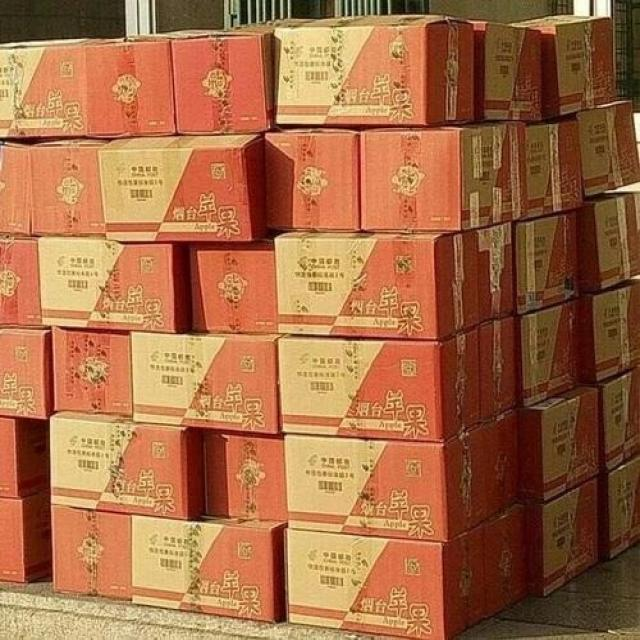box: (274, 13, 475, 131), (284, 525, 486, 640), (284, 426, 486, 540), (274, 228, 479, 340), (278, 330, 480, 442), (97, 133, 271, 241), (360, 121, 526, 233), (50, 410, 206, 519), (132, 515, 288, 622), (132, 331, 284, 434), (40, 237, 191, 333), (173, 19, 297, 135), (87, 30, 219, 137), (508, 13, 616, 119), (265, 128, 360, 232), (0, 38, 99, 137), (518, 387, 602, 501), (522, 477, 599, 594), (191, 240, 276, 334), (466, 19, 541, 123), (51, 504, 132, 600), (31, 139, 110, 237), (205, 430, 288, 521), (52, 326, 132, 418), (515, 300, 580, 406), (576, 193, 640, 292), (515, 212, 577, 314), (579, 279, 640, 381), (576, 101, 640, 197), (525, 120, 582, 218), (0, 329, 56, 419), (484, 503, 527, 618), (0, 489, 51, 582), (480, 408, 521, 519), (0, 237, 49, 327), (598, 365, 640, 470), (599, 453, 639, 558), (0, 416, 50, 497), (479, 317, 516, 422), (476, 221, 513, 325), (0, 141, 31, 234)
